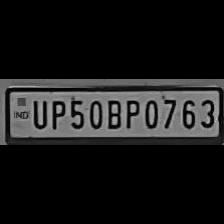0: (140, 96, 160, 128), (86, 96, 104, 128)
3: (196, 94, 216, 128)
5: (65, 96, 85, 130)
6: (177, 96, 197, 128)
7: (159, 96, 177, 130)
B: (104, 96, 122, 130)
P: (46, 97, 66, 129), (122, 96, 140, 130)
U: (28, 96, 48, 130)
